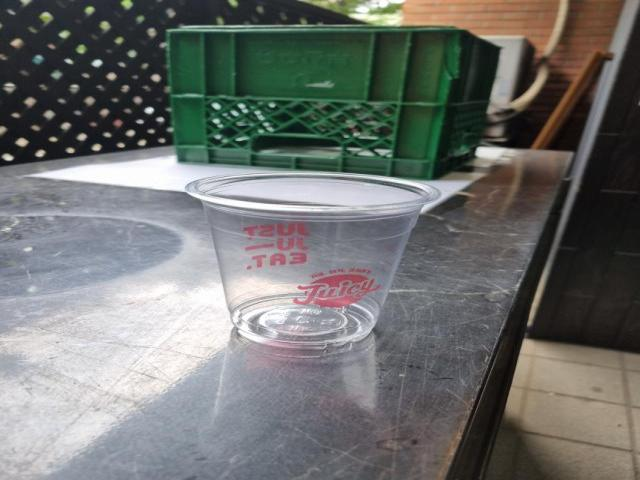cup: (175, 165, 448, 350)
